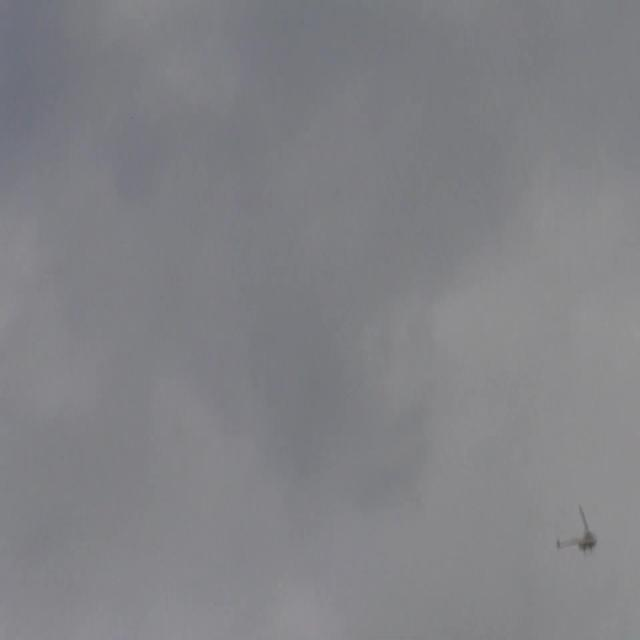CIV_HELO: (557, 520, 598, 558)
